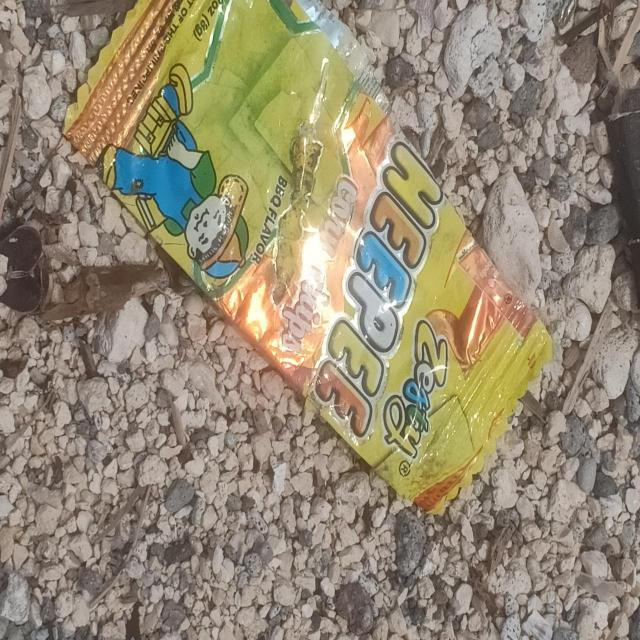plastic_waste: (63, 1, 557, 519)
